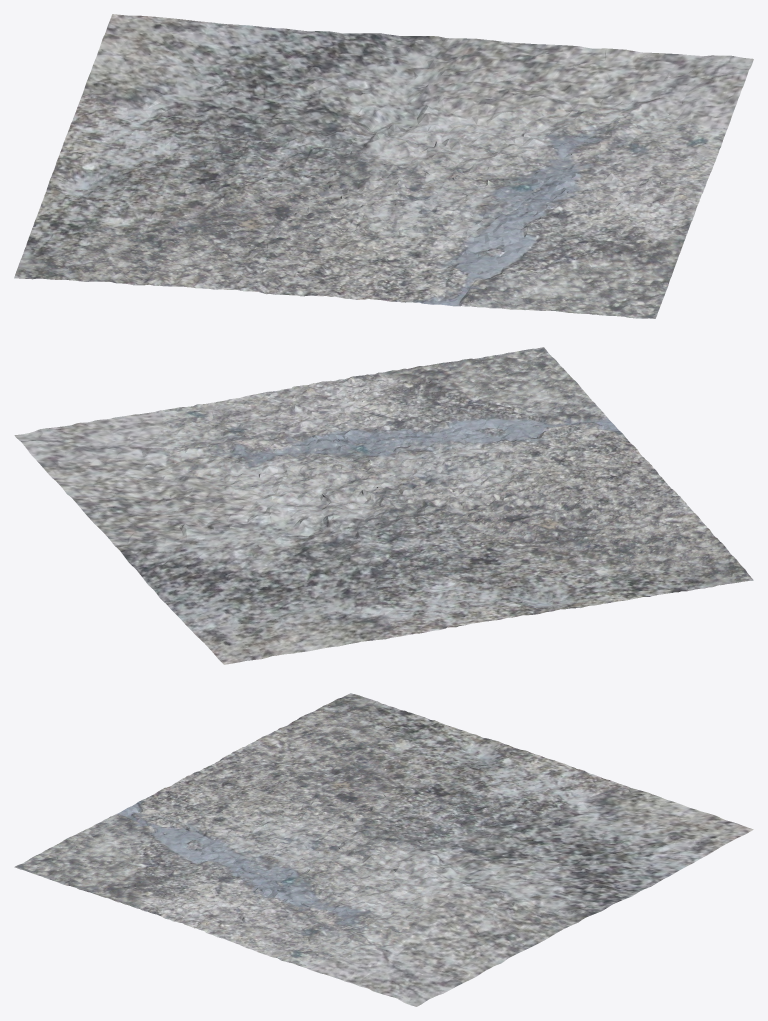
The model's file is tile_1_0.obj.
3 renders of one model, top to bottom at view 1: azimuth 30°, elevation 25°; view 2: azimuth 150°, elevation 25°; view 3: azimuth 270°, elevation 25°, orthographic. The views are drawn at different scales.
Parts seen in each view (by area): view 1: texture_0; view 2: texture_0; view 3: texture_0.
Part boxes in pixels (x1,y1,x2,y2): texture_0: (14,14,753,318); texture_0: (14,347,753,664); texture_0: (14,693,753,1006).
Size of the model in its own units: 0.5079 by 0.00787 by 0.5063.
1 material, 1 textured.
